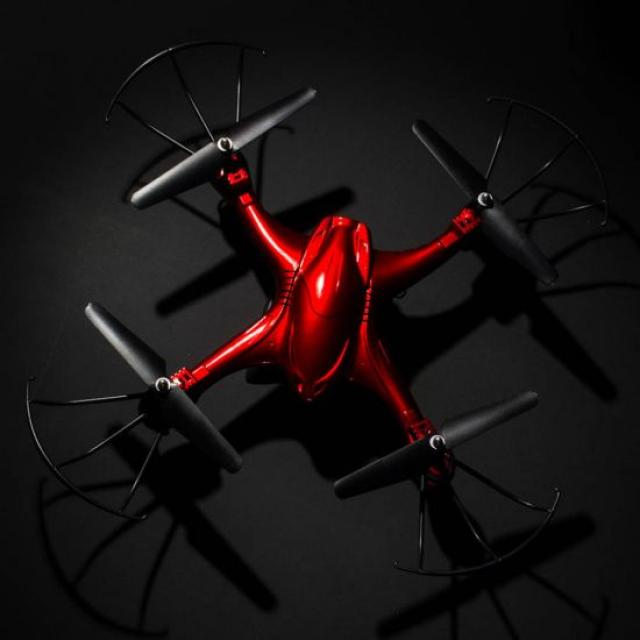drone: (5, 35, 640, 541)
